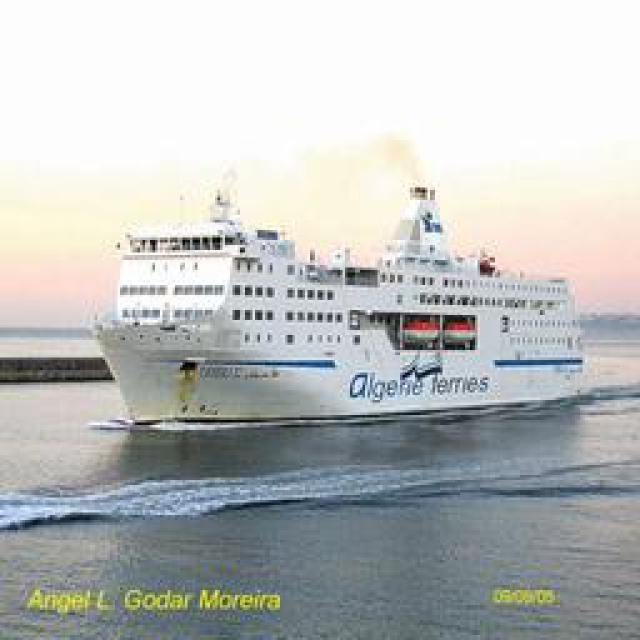Ship: (81, 170, 591, 425)
